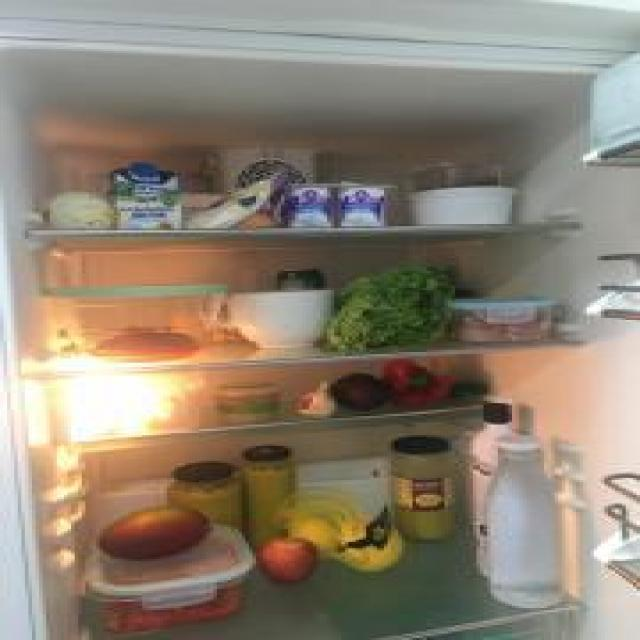apple: (260, 536, 316, 584)
avocado: (330, 372, 388, 411)
bell_pepper: (382, 359, 453, 406)
garlic: (295, 382, 338, 416)
guacamole: (215, 385, 279, 421)
heavy_cream: (114, 164, 181, 233)
mango: (96, 505, 213, 560)
salad: (352, 268, 444, 351)
yogurt: (342, 182, 388, 228), (284, 185, 334, 227)
